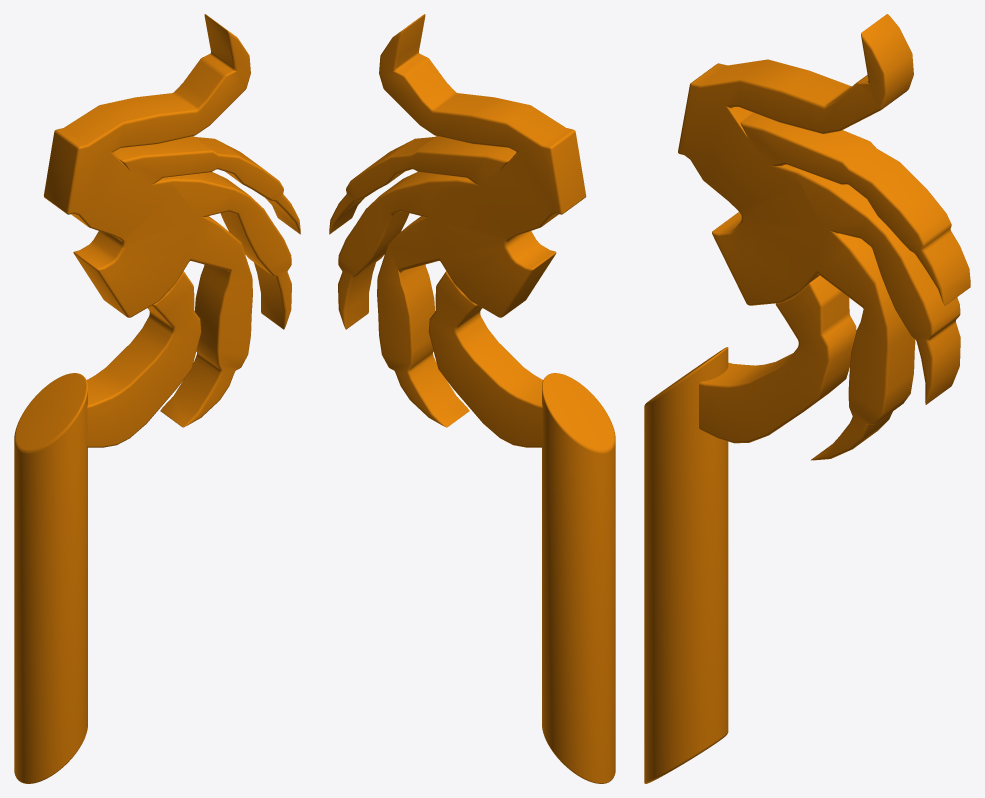
The model's file is Key Split 2.fbx.
3 views of the same model, side by side, from view 1: azimuth 30°, elevation 25°; view 2: azimuth 150°, elevation 25°; view 3: azimuth 330°, elevation 25° (orthographic). The views are drawn at different scales.
Visible parts, largest first — view 1: Key Loose 2; view 2: Key Loose 2; view 3: Key Loose 2.
Boxes of the visible parts, x1=… form: Key Loose 2: x1=14, y1=14, x2=300, y2=783; Key Loose 2: x1=329, y1=14, x2=615, y2=783; Key Loose 2: x1=644, y1=14, x2=970, y2=783.
Size of the model in its own units: 10.83 by 27.23 by 2.57.
